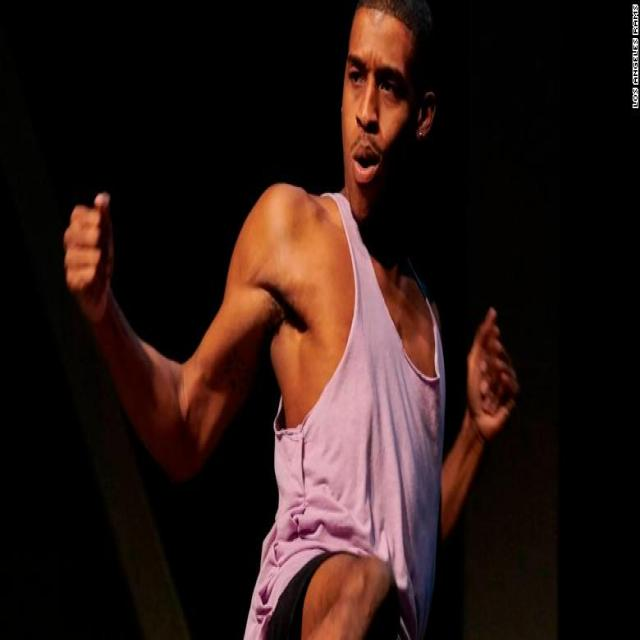mobile_phonerotation: (61, 2, 519, 637)
